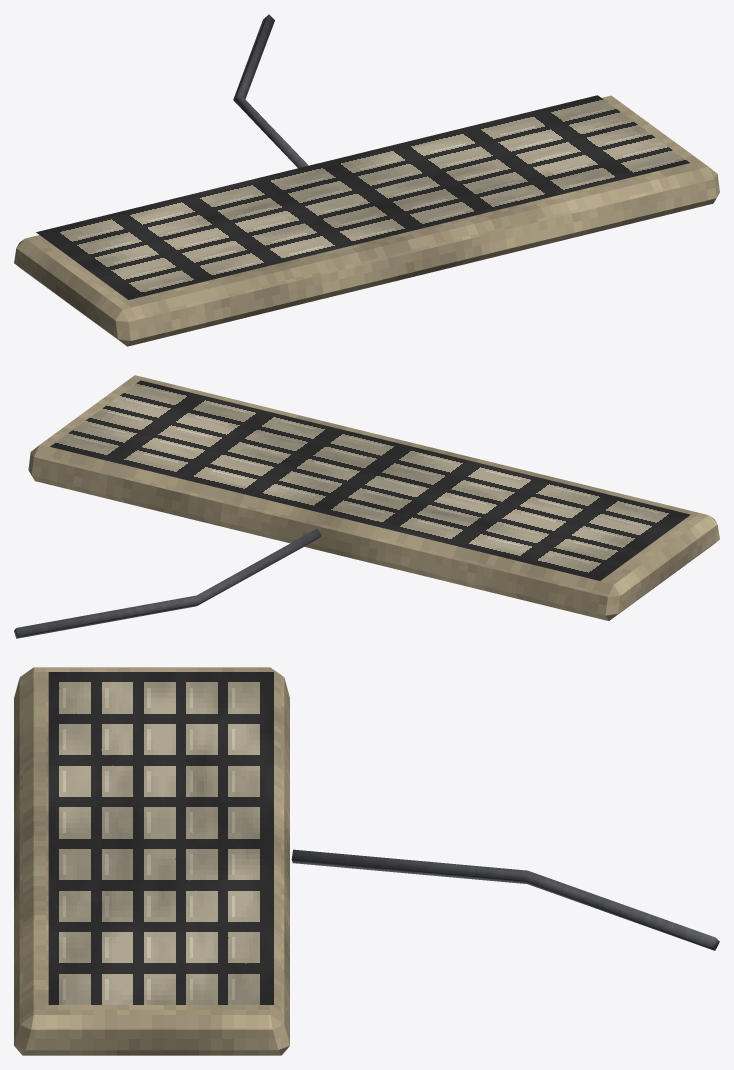
File: Lab_Keyboard.fbx
3 renders of one model, top to bottom at view 1: azimuth 30°, elevation 25°; view 2: azimuth 150°, elevation 25°; view 3: azimuth 270°, elevation 25°, orthographic. The views are drawn at different scales.
Parts seen in each view (by area): view 1: Lab_Keyboard; view 2: Lab_Keyboard; view 3: Lab_Keyboard.
Boxes of the visible parts, x1,y1,x2,y2 form: Lab_Keyboard: [14, 14, 719, 346]; Lab_Keyboard: [14, 375, 719, 638]; Lab_Keyboard: [14, 667, 719, 1055].
Size of the model in its own units: 0.45 by 0.0255 by 0.376.
